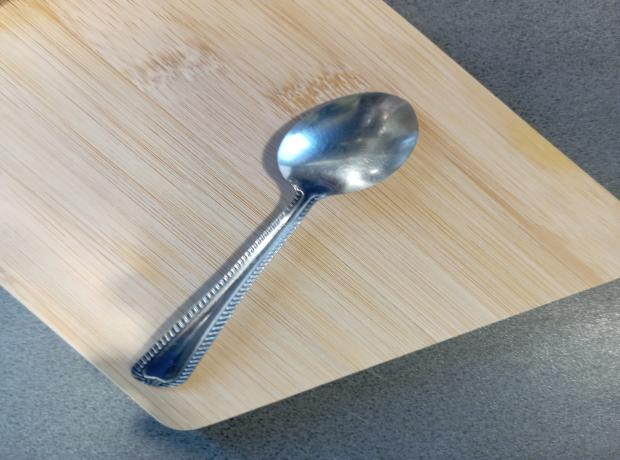metal: (133, 88, 428, 388)
